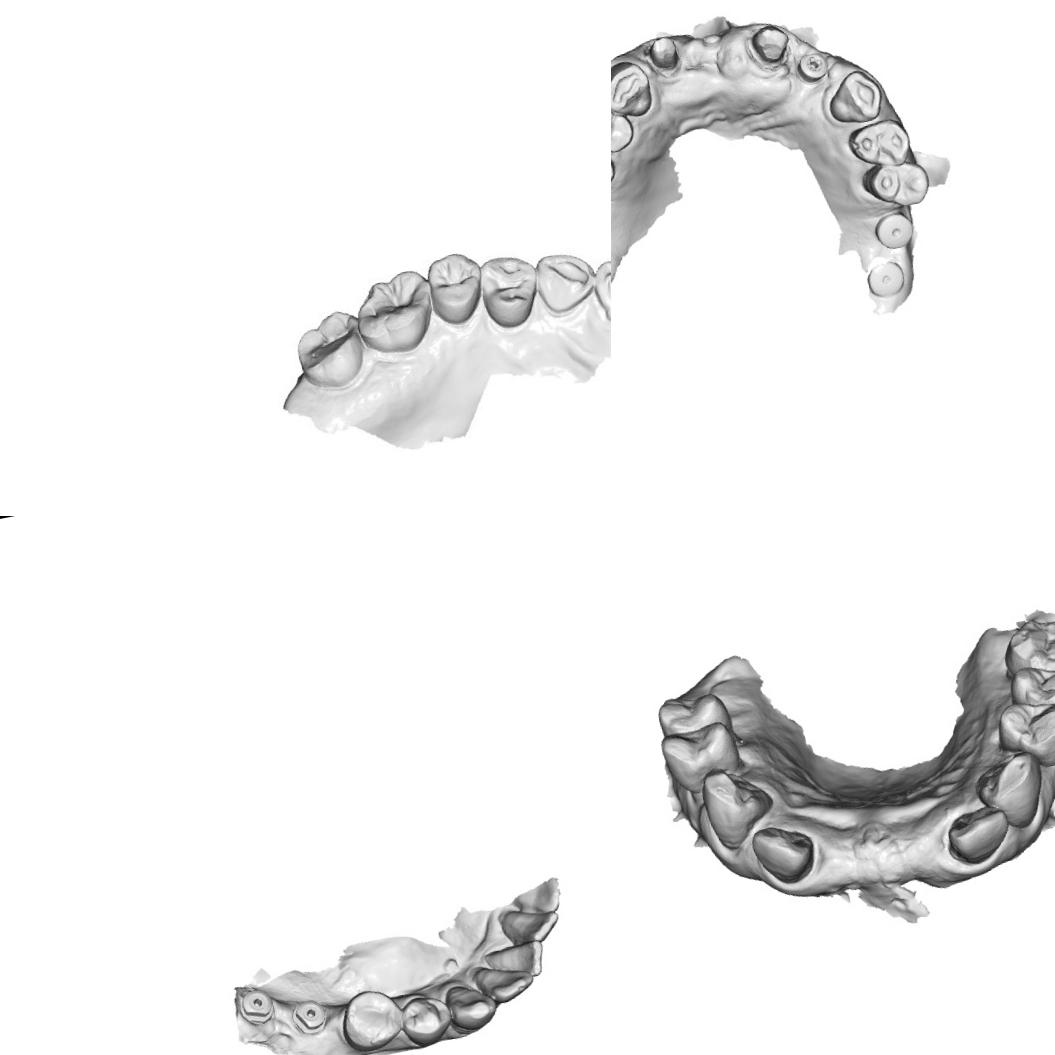canine: (968, 744, 1055, 836), (696, 757, 779, 845), (822, 64, 888, 129), (442, 977, 501, 1038), (611, 53, 656, 122)
crown: (744, 16, 795, 68), (642, 31, 684, 78)
implant: (869, 206, 918, 254), (860, 256, 910, 301), (234, 983, 278, 1028), (287, 994, 332, 1038)
implant_plus: (792, 46, 832, 86)
incisor: (748, 817, 821, 890), (940, 800, 1014, 870), (470, 956, 538, 1009), (495, 900, 563, 950), (480, 937, 548, 986), (506, 873, 566, 921)
molar: (348, 260, 444, 362), (285, 300, 378, 398), (996, 605, 1055, 681)
premolar: (471, 245, 547, 334), (656, 717, 746, 784), (422, 248, 490, 332), (333, 982, 407, 1055), (988, 691, 1055, 765), (856, 155, 935, 215), (842, 114, 916, 174), (653, 686, 734, 740), (1004, 656, 1055, 729), (396, 989, 456, 1051), (611, 96, 637, 160)
